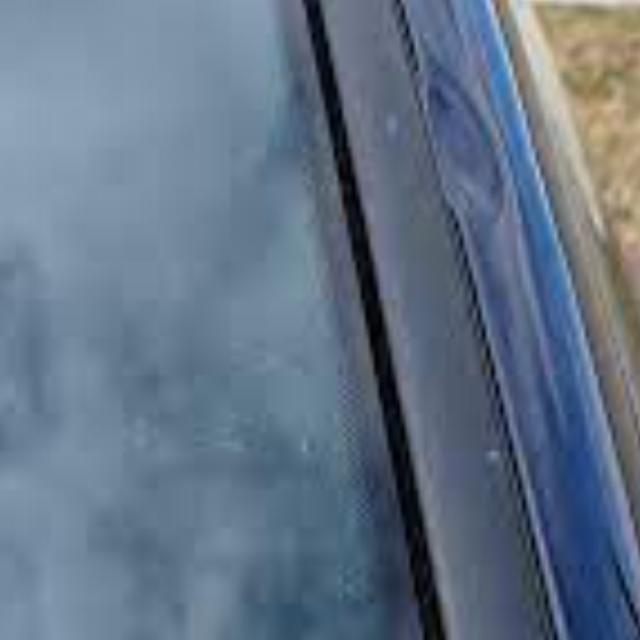dents: (420, 56, 536, 248)
